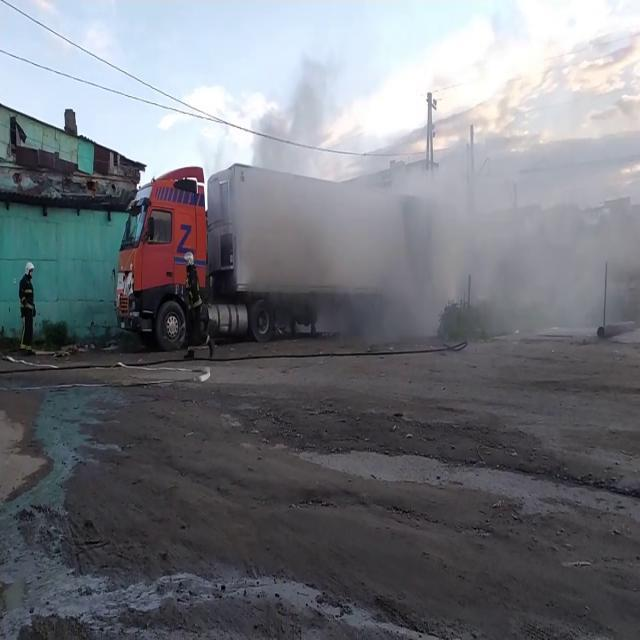Smoke: (220, 40, 636, 342)
